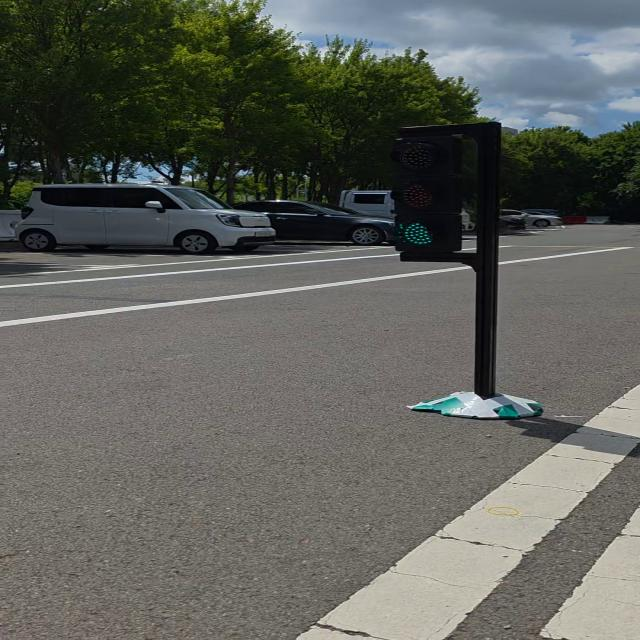green: (390, 132, 470, 260)
